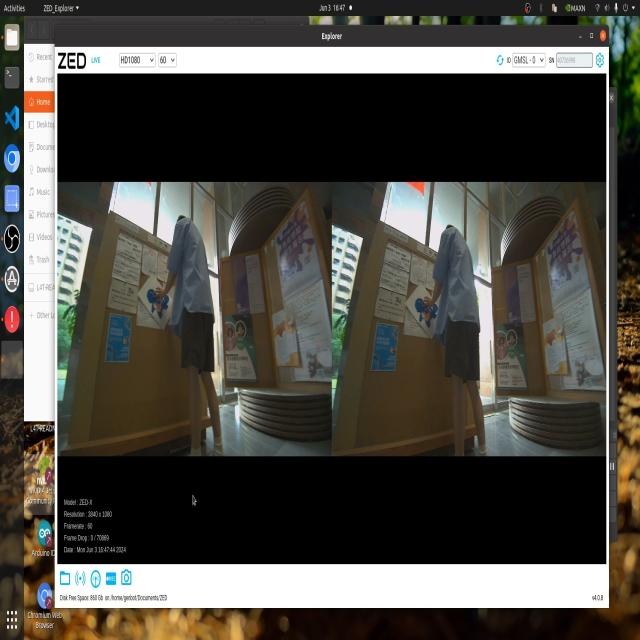blue: (405, 294, 440, 332), (145, 284, 172, 322)
